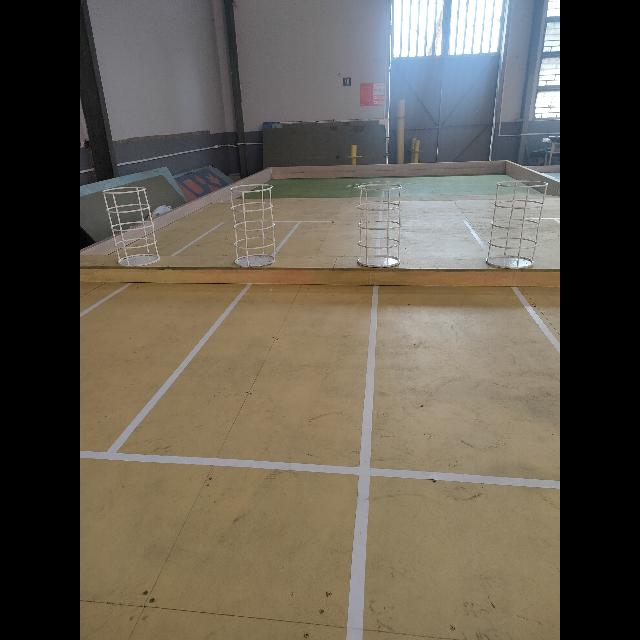S: (485, 179, 549, 270), (101, 185, 161, 268), (228, 183, 276, 268), (357, 183, 403, 269)
